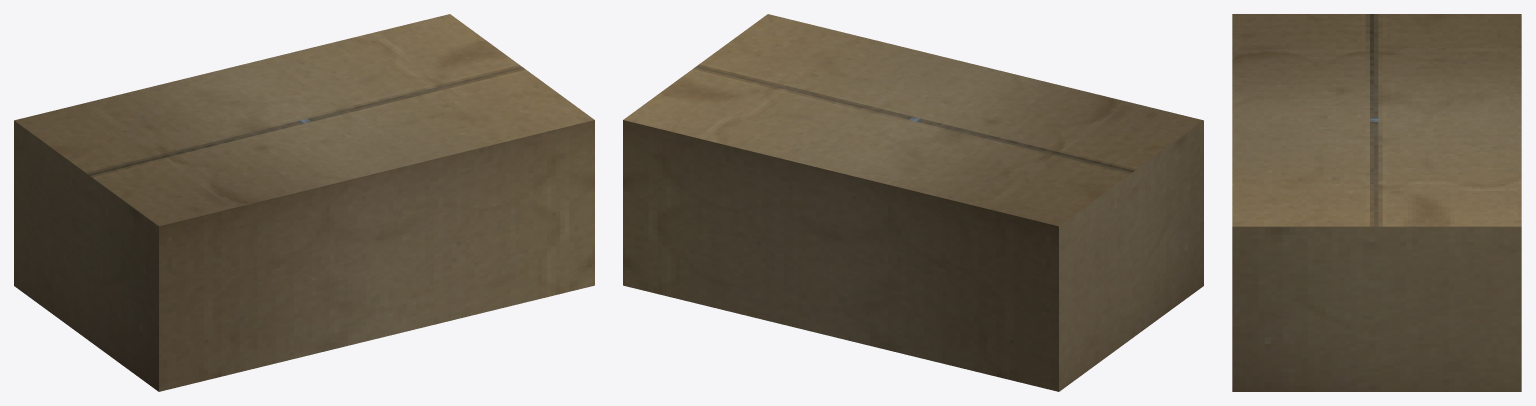
The model's file is cardboardbox_3.glb.
3 renders of one model, left to right at view 1: azimuth 30°, elevation 25°; view 2: azimuth 150°, elevation 25°; view 3: azimuth 270°, elevation 25°, orthographic.
Visible parts, largest first — view 1: CardboardBox_3; view 2: CardboardBox_3; view 3: CardboardBox_3.
Part boxes in pixels (left/top/right/bottom): CardboardBox_3: left=14, top=14, right=594, bottom=391; CardboardBox_3: left=623, top=14, right=1203, bottom=391; CardboardBox_3: left=1232, top=14, right=1521, bottom=391.
Bounding box in the file's own units: 1.24 × 0.4516 × 0.7163.
1 material, 1 textured.
